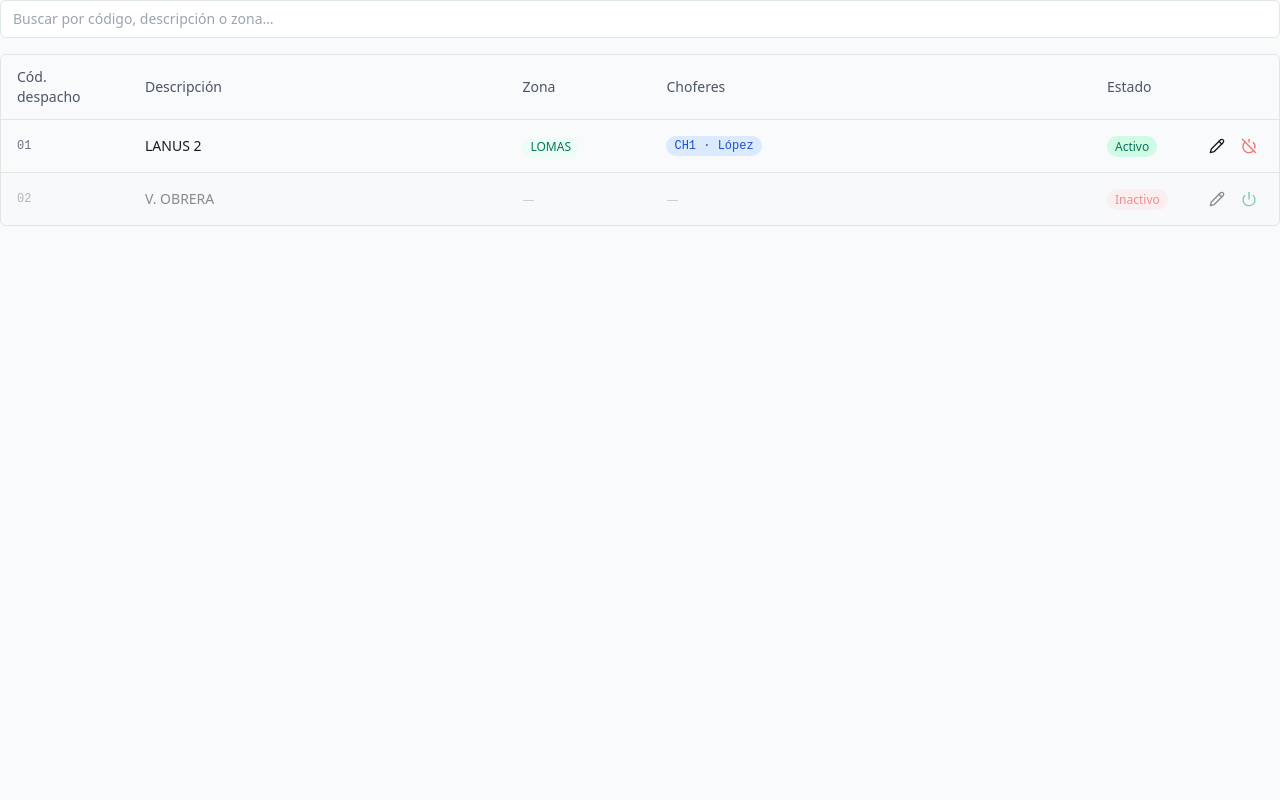
Test: RutasTab › el lápiz abre el modal de edición
Click the button titled "Editar" in the row of "01" at point(1217, 146), box [1203,132,1231,160]
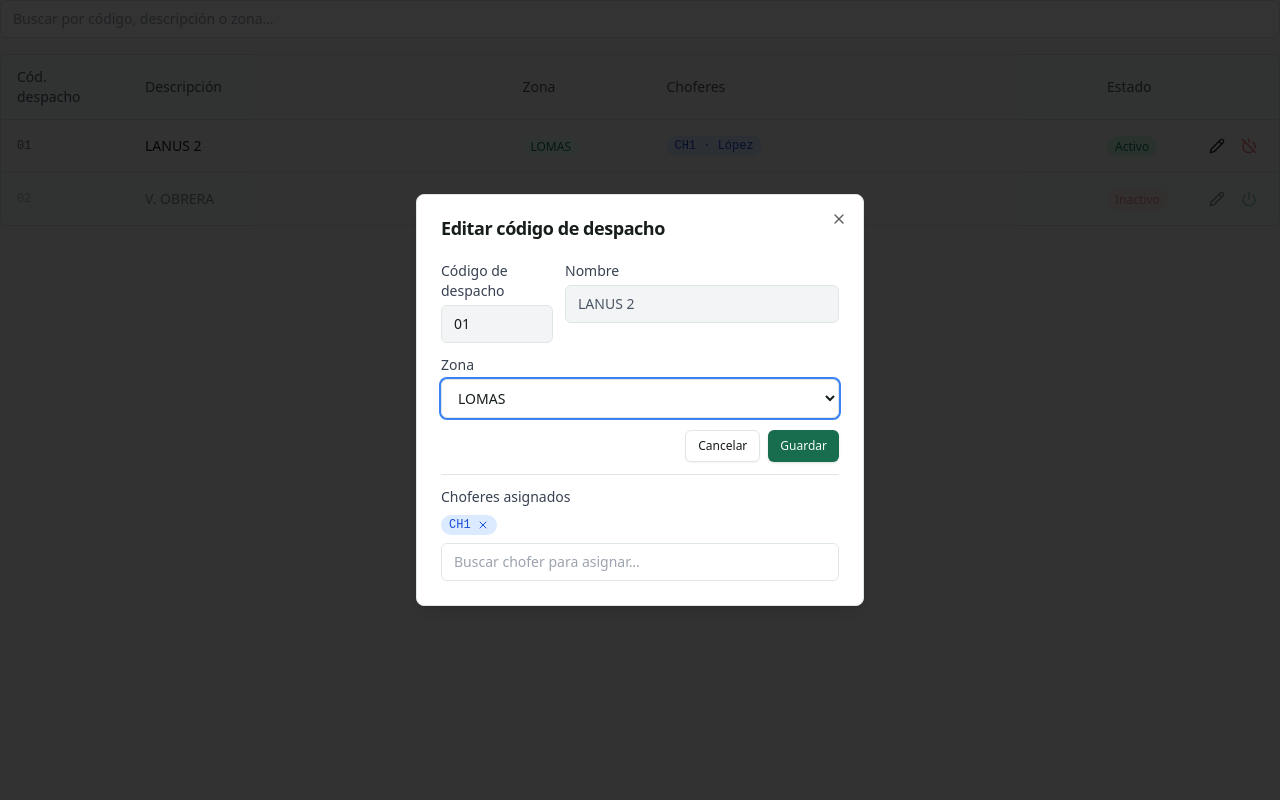
Check: the heading "Editar código de despacho" is shown, box [441,216,665,240]
